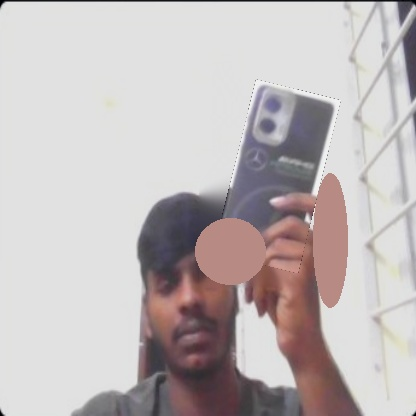cell_phone: (213, 79, 341, 273)
